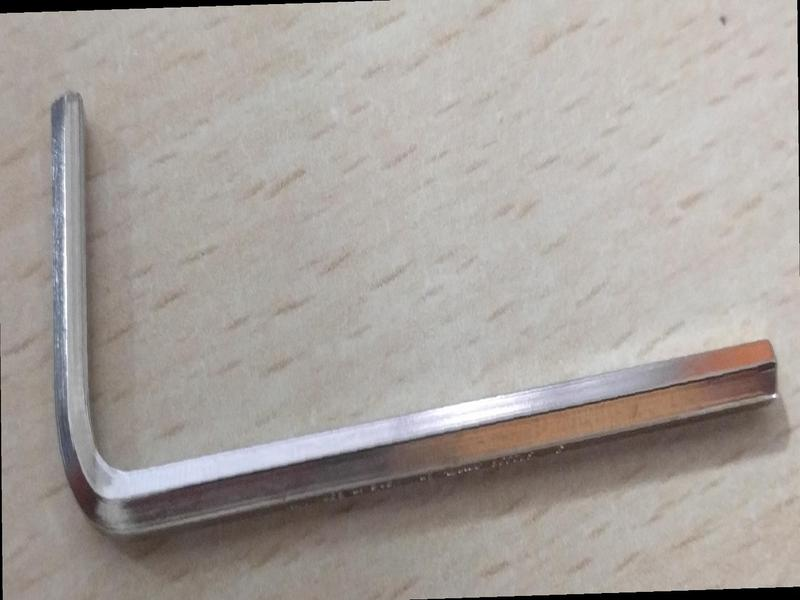turner: (32, 75, 788, 567)
